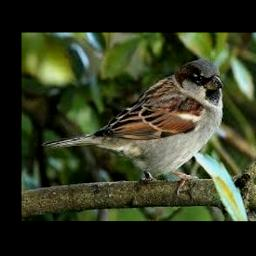Sparrow: (42, 58, 222, 193)
